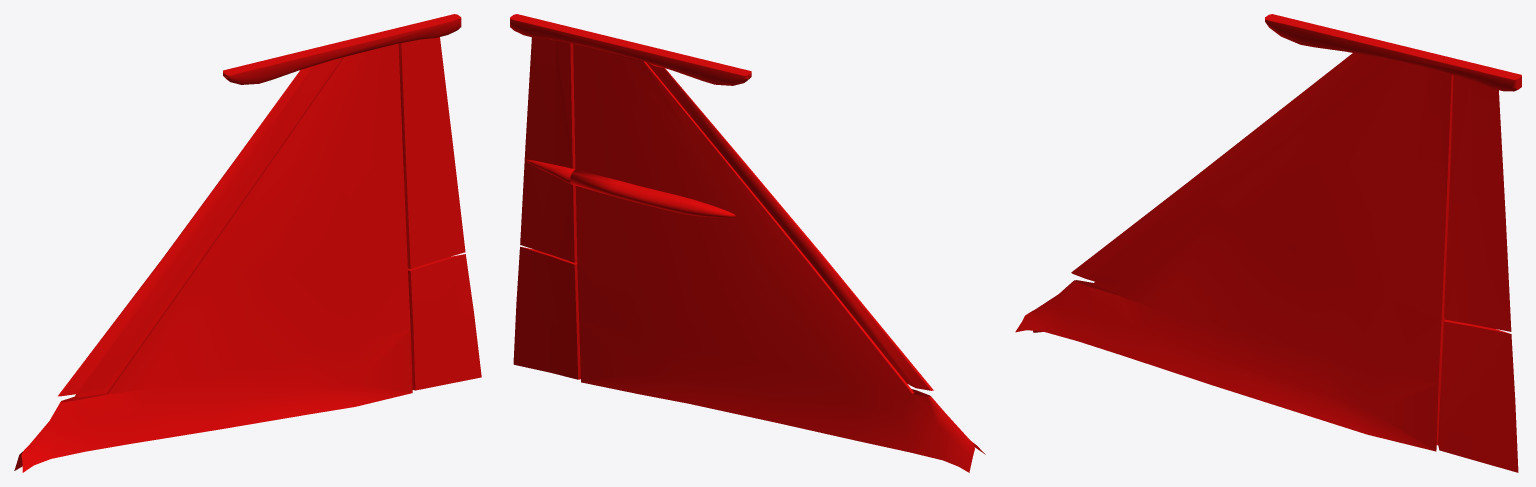
File: rafale_highlight_08.fbx
3 views of the same model, side by side, from view 1: azimuth 30°, elevation 25°; view 2: azimuth 150°, elevation 25°; view 3: azimuth 330°, elevation 25° (orthographic). The views are drawn at different scales.
Visible parts, largest first — view 1: rafale_highlight_08; view 2: rafale_highlight_08; view 3: rafale_highlight_08.
Boxes of the visible parts, x1,y1,x2,y2 form: rafale_highlight_08: (14, 14, 481, 472); rafale_highlight_08: (510, 14, 985, 472); rafale_highlight_08: (1015, 14, 1521, 472).
Bounding box in the file's own units: 205 × 150 × 22.58.
